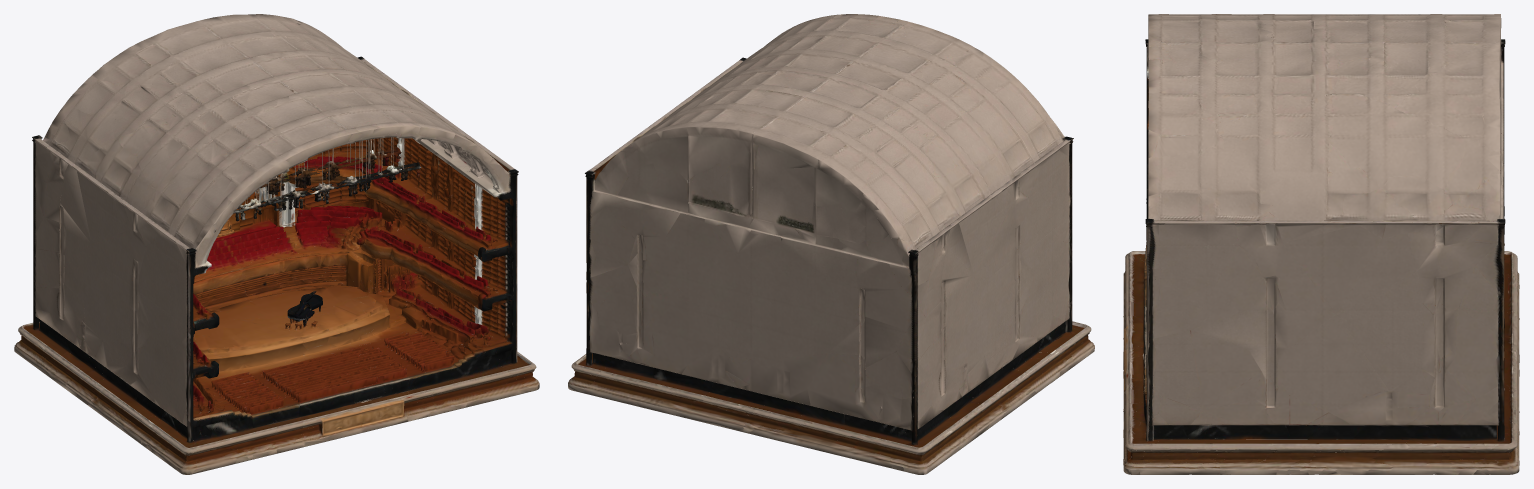
Rendered from dfp.glb.
The picture shows the model from 3 angles, left to right: view 1: azimuth 30°, elevation 25°; view 2: azimuth 150°, elevation 25°; view 3: azimuth 270°, elevation 25°; orthographic projection. The views are drawn at different scales.
Visible parts, largest first — view 1: Meshy_AI_Miniature_Concert_Hal_0814174742_texture.001; view 2: Meshy_AI_Miniature_Concert_Hal_0814174742_texture.001; view 3: Meshy_AI_Miniature_Concert_Hal_0814174742_texture.001.
Part boxes in pixels (x1,y1,x2,y2): Meshy_AI_Miniature_Concert_Hal_0814174742_texture.001: (14,14,539,474); Meshy_AI_Miniature_Concert_Hal_0814174742_texture.001: (568,14,1094,474); Meshy_AI_Miniature_Concert_Hal_0814174742_texture.001: (1123,14,1519,474).
Size of the model in its own units: 1.9 by 1.48 by 1.59.
1 material, 1 textured.
